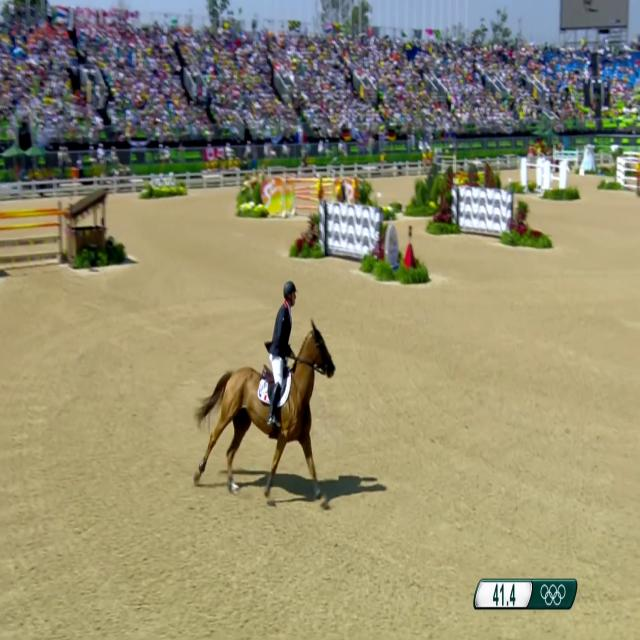Horse Rider: (257, 244, 306, 421)
Horse Running: (186, 309, 339, 511)
